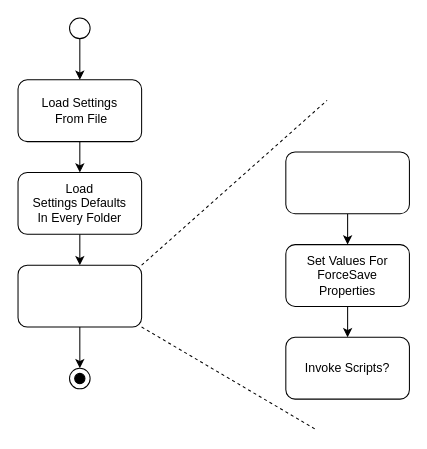
The diagram is 427 pixels wide and 449 high, and some of its shapes have lost their labels. Here are the shapes that lost their labels. From the top down, the centre of each, then its label:
At (x=347, y=182): "Compare Versions".
At (x=79, y=295): "Compare Deffaults and Current Settings".
